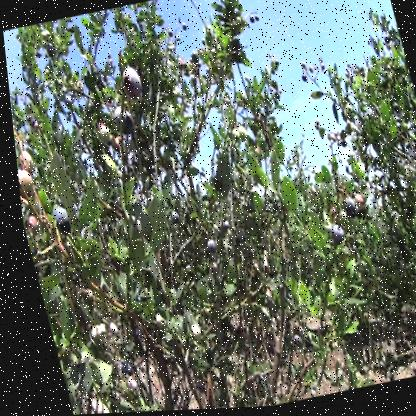intermediate: (15, 166, 36, 202), (16, 148, 36, 173), (116, 371, 134, 397), (346, 191, 364, 217), (20, 211, 37, 235)
mature: (116, 65, 144, 105), (42, 202, 70, 241), (109, 106, 138, 138), (335, 196, 355, 225), (324, 223, 344, 250)
young: (93, 120, 113, 149), (225, 126, 248, 149), (82, 320, 102, 341), (146, 312, 161, 336), (181, 326, 197, 346), (315, 220, 330, 237)
